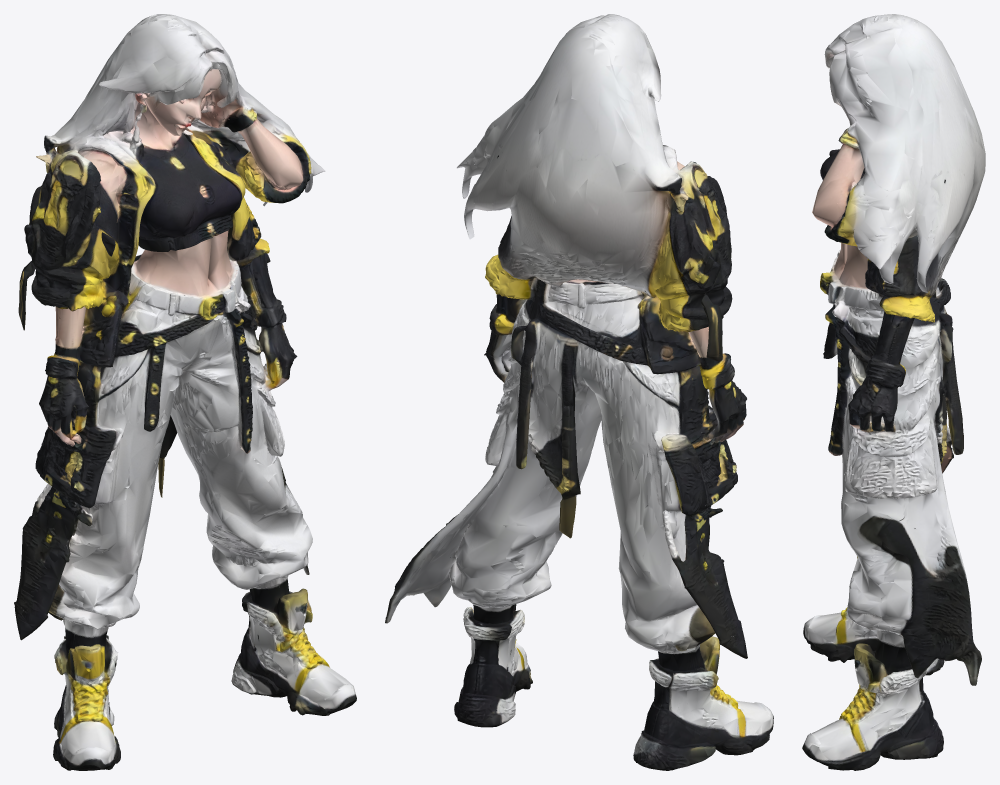
File: ivory.glb
3 renders of one model, left to right at view 1: azimuth 30°, elevation 25°; view 2: azimuth 150°, elevation 25°; view 3: azimuth 270°, elevation 25°, orthographic. The views are drawn at different scales.
Visible parts, largest first — view 1: model; view 2: model; view 3: model.
Boxes of the visible parts, left/top/right/bottom form: model: left=14, top=14, right=356, bottom=770; model: left=385, top=14, right=773, bottom=770; model: left=802, top=14, right=985, bottom=770.
Size of the model in its own units: 0.8973 by 1.9 by 0.4611.
Materials: 1 (1 with a texture image).
